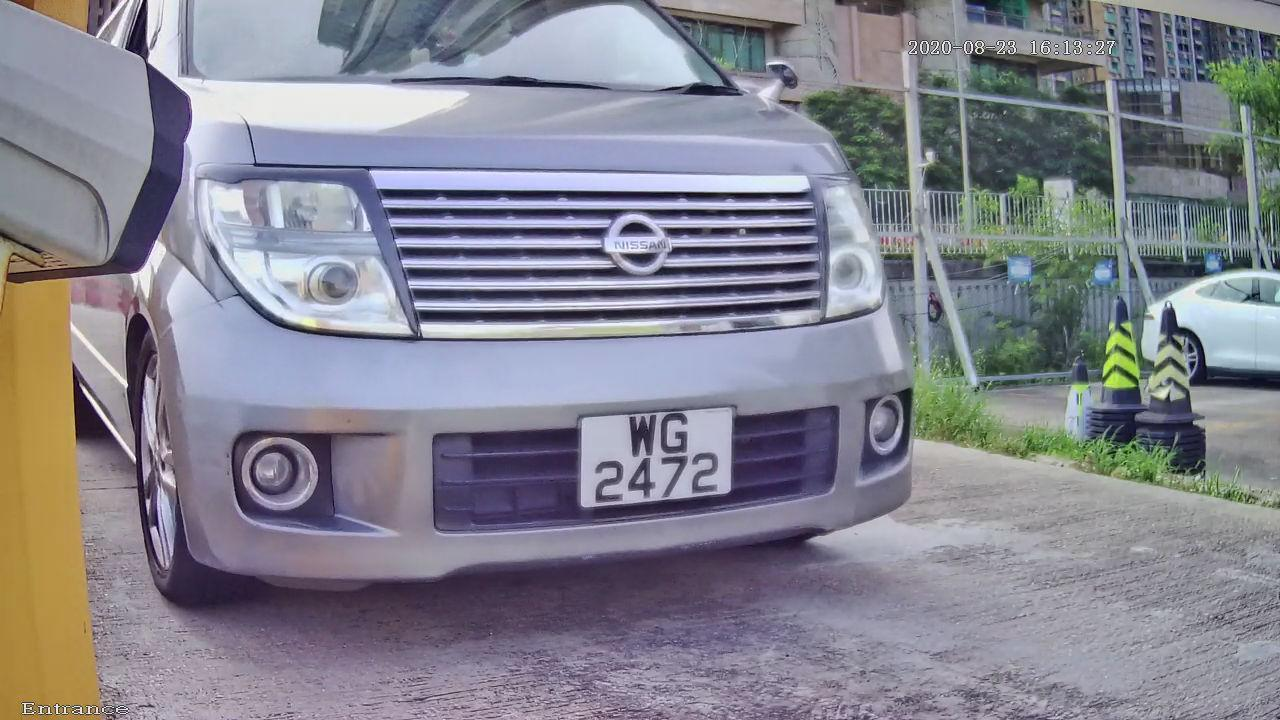Car: (1, 7, 1012, 640)
License Plate: (560, 393, 743, 521)
